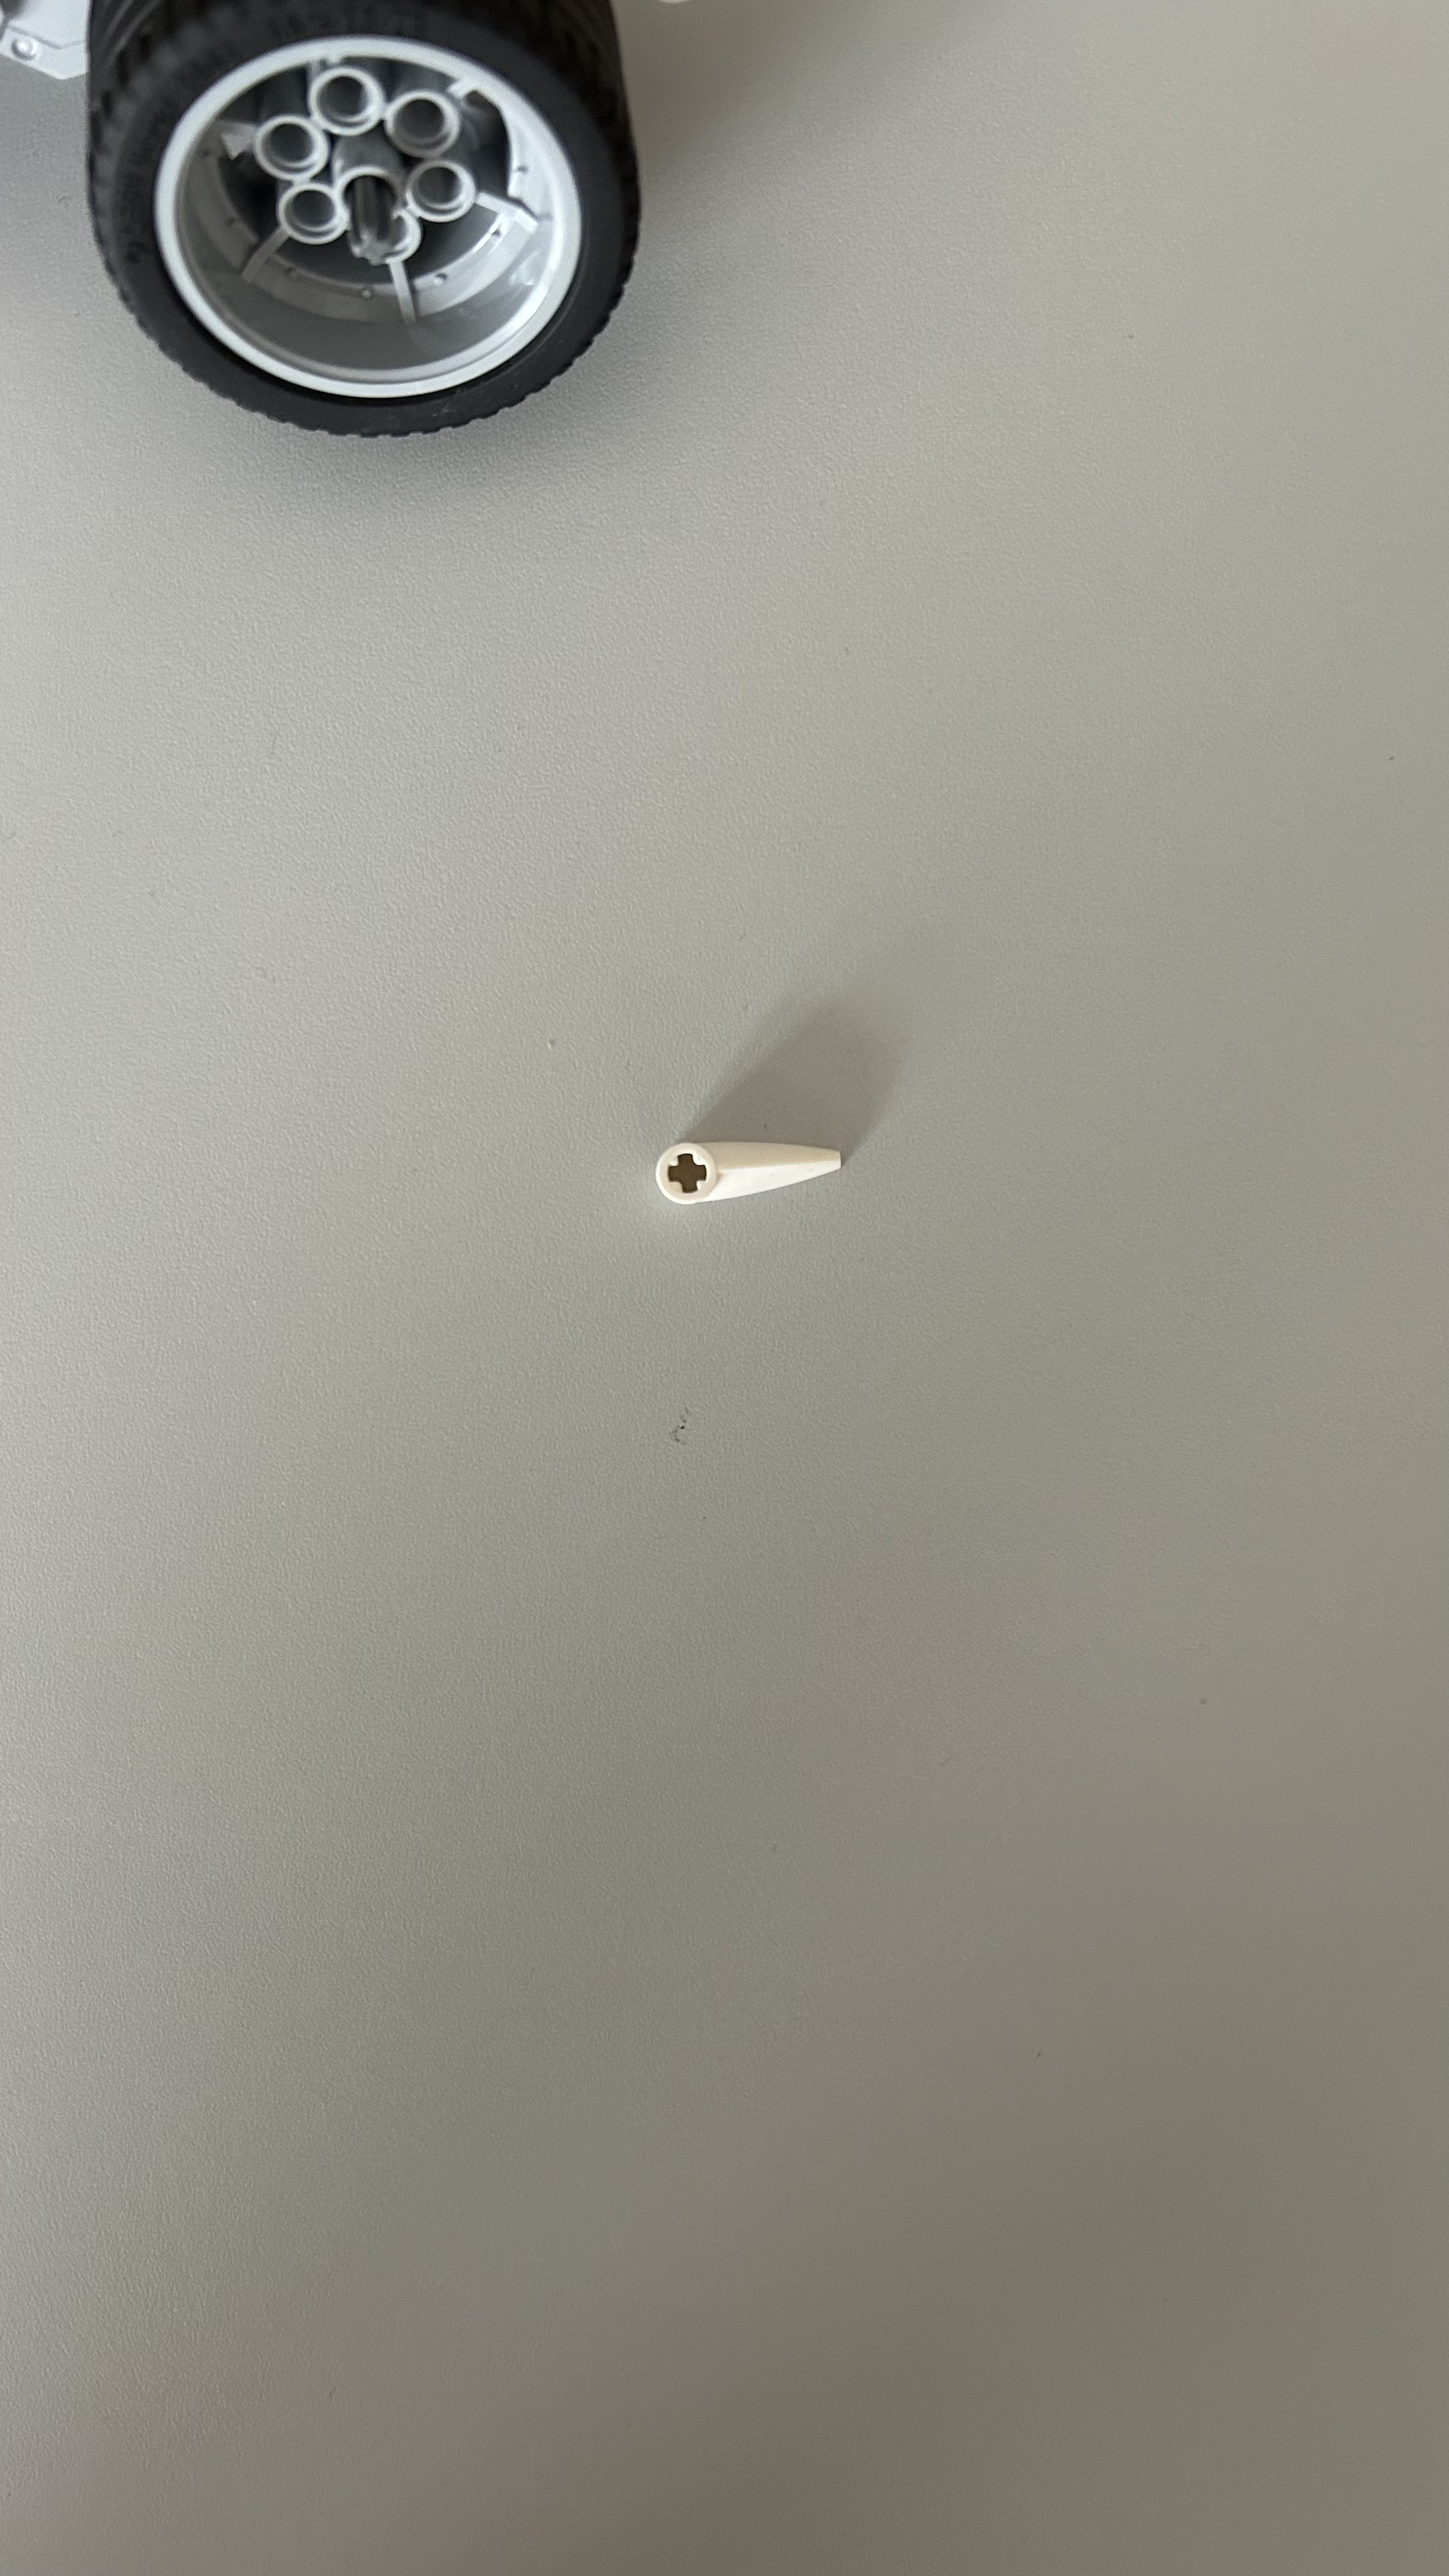white3: (630, 1102, 867, 1226)
